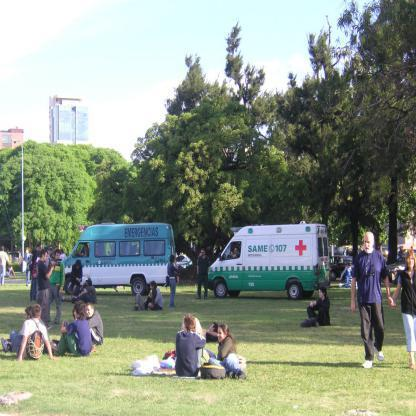Ambulance - v1 Ambulance last generate: (208, 220, 331, 300), (61, 224, 176, 294)
